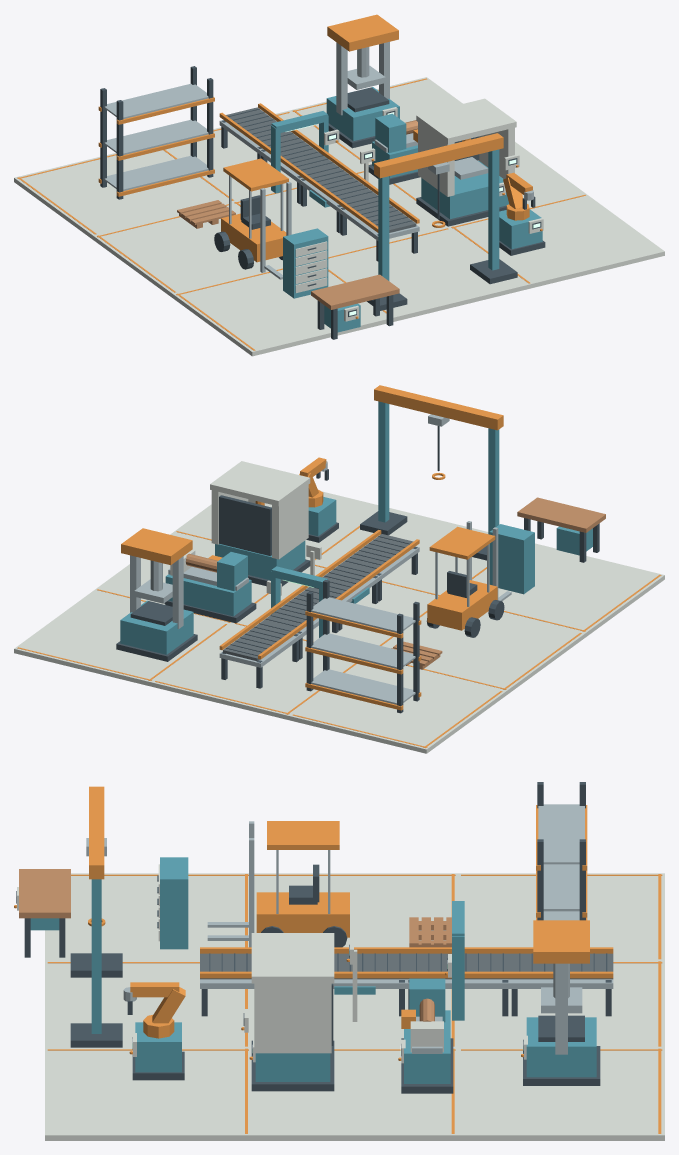
File: conveyor-network-production-floor.glb
3 views of the same model, one above another, from view 1: azimuth 30°, elevation 25°; view 2: azimuth 150°, elevation 25°; view 3: azimuth 270°, elevation 25° (orthographic). The views are drawn at different scales.
Parts seen in each view (by area): view 1: 022-factory-conveyor-network-floor-module/cream, 019-factory-conveyor-network-floor-module/cream, 014-factory-conveyor-network-floor-module/cream, 016-factory-conveyor-network-floor-module/cream, 015-factory-conveyor-network-floor-module/cream, 008-factory-conveyor-network-logistics-rack/steel, 006-factory-conveyor-network-machine-mill/cream, 018-factory-conveyor-network-floor-module/cream, 017-factory-conveyor-network-floor-module/cream, 010-factory-conveyor-network-logistics-forklift/orange, 013-factory-conveyor-network-logistics-gantry/blue, 020-factory-conveyor-network-floor-module/cream (+35 smaller); view 2: 014-factory-conveyor-network-floor-module/cream, 015-factory-conveyor-network-floor-module/cream, 016-factory-conveyor-network-floor-module/cream, 020-factory-conveyor-network-floor-module/cream, 017-factory-conveyor-network-floor-module/cream, 006-factory-conveyor-network-machine-mill/cream, 008-factory-conveyor-network-logistics-rack/steel, 019-factory-conveyor-network-floor-module/cream, 010-factory-conveyor-network-logistics-forklift/orange, 018-factory-conveyor-network-floor-module/cream, 006-factory-conveyor-network-machine-mill/dark, 005-factory-conveyor-network-machine-lathe/blue (+32 smaller); view 3: 022-factory-conveyor-network-floor-module/cream, 020-factory-conveyor-network-floor-module/cream, 021-factory-conveyor-network-floor-module/cream, 016-factory-conveyor-network-floor-module/cream, 014-factory-conveyor-network-floor-module/cream, 019-factory-conveyor-network-floor-module/cream, 006-factory-conveyor-network-machine-mill/cream, 017-factory-conveyor-network-floor-module/cream, 015-factory-conveyor-network-floor-module/cream, 010-factory-conveyor-network-logistics-forklift/orange, 008-factory-conveyor-network-logistics-rack/steel, 018-factory-conveyor-network-floor-module/cream (+40 smaller).
Boxes of the visible parts, x1,y1,x2,y2 form: 022-factory-conveyor-network-floor-module/cream: [448, 193, 664, 289]; 019-factory-conveyor-network-floor-module/cream: [328, 227, 527, 321]; 014-factory-conveyor-network-floor-module/cream: [14, 150, 228, 239]; 016-factory-conveyor-network-floor-module/cream: [173, 267, 386, 356]; 015-factory-conveyor-network-floor-module/cream: [93, 203, 282, 297]; 008-factory-conveyor-network-logistics-rack/steel: [104, 83, 208, 190]; 006-factory-conveyor-network-machine-mill/cream: [416, 98, 519, 196]; 018-factory-conveyor-network-floor-module/cream: [231, 170, 447, 255]; 017-factory-conveyor-network-floor-module/cream: [161, 110, 363, 201]; 010-factory-conveyor-network-logistics-forklift/orange: [221, 158, 288, 262]; 013-factory-conveyor-network-logistics-gantry/blue: [378, 149, 499, 280]; 020-factory-conveyor-network-floor-module/cream: [289, 77, 462, 164]; 014-factory-conveyor-network-floor-module/cream: [289, 664, 505, 753]; 015-factory-conveyor-network-floor-module/cream: [384, 611, 585, 695]; 016-factory-conveyor-network-floor-module/cream: [474, 543, 664, 636]; 020-factory-conveyor-network-floor-module/cream: [14, 590, 230, 686]; 017-factory-conveyor-network-floor-module/cream: [151, 624, 358, 719]; 006-factory-conveyor-network-machine-mill/cream: [210, 461, 310, 559]; 008-factory-conveyor-network-logistics-rack/steel: [311, 597, 415, 704]; 019-factory-conveyor-network-floor-module/cream: [315, 508, 488, 596]; 010-factory-conveyor-network-logistics-forklift/orange: [427, 526, 497, 630]; 018-factory-conveyor-network-floor-module/cream: [231, 566, 435, 646]; 006-factory-conveyor-network-machine-mill/dark: [219, 495, 310, 586]; 005-factory-conveyor-network-machine-lathe/blue: [165, 552, 251, 616]; 022-factory-conveyor-network-floor-module/cream: [45, 1048, 251, 1140]; 020-factory-conveyor-network-floor-module/cream: [458, 1048, 664, 1140]; 021-factory-conveyor-network-floor-module/cream: [251, 1048, 458, 1140]; 016-factory-conveyor-network-floor-module/cream: [45, 873, 248, 960]; 014-factory-conveyor-network-floor-module/cream: [458, 873, 664, 960]; 019-factory-conveyor-network-floor-module/cream: [45, 960, 251, 1047]; 006-factory-conveyor-network-machine-mill/cream: [244, 933, 334, 1062]; 017-factory-conveyor-network-floor-module/cream: [458, 960, 664, 1047]; 015-factory-conveyor-network-floor-module/cream: [254, 873, 458, 947]; 010-factory-conveyor-network-logistics-forklift/orange: [256, 821, 349, 937]; 008-factory-conveyor-network-logistics-rack/steel: [538, 804, 584, 920]; 018-factory-conveyor-network-floor-module/cream: [251, 989, 458, 1047].
Bounding box in the file's own units: 12 × 3.92 × 12.6.
